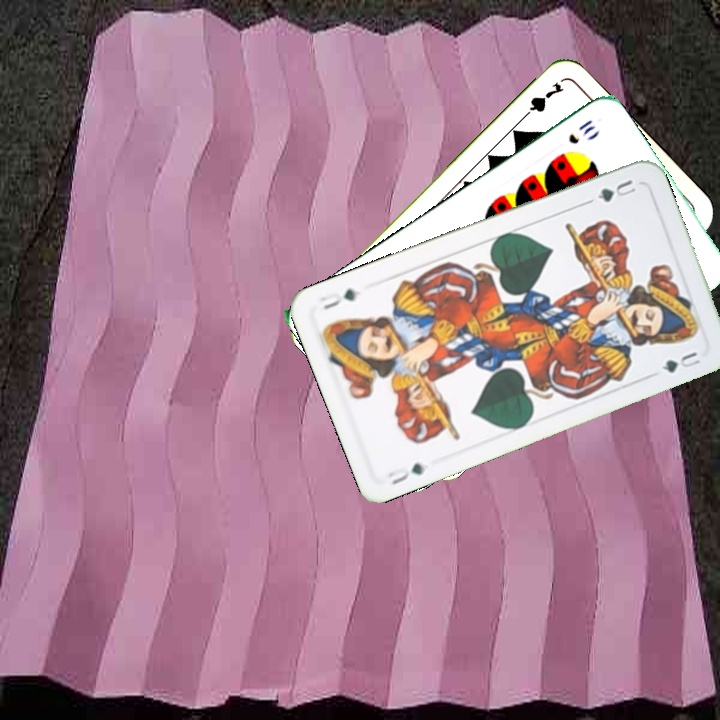G7: (516, 78, 567, 124)
GU: (593, 175, 639, 205), (383, 459, 428, 487)
S10: (564, 115, 598, 147)
